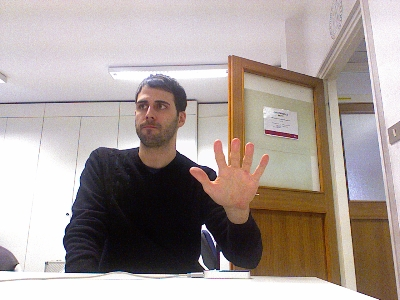布: (187, 137, 269, 211)
